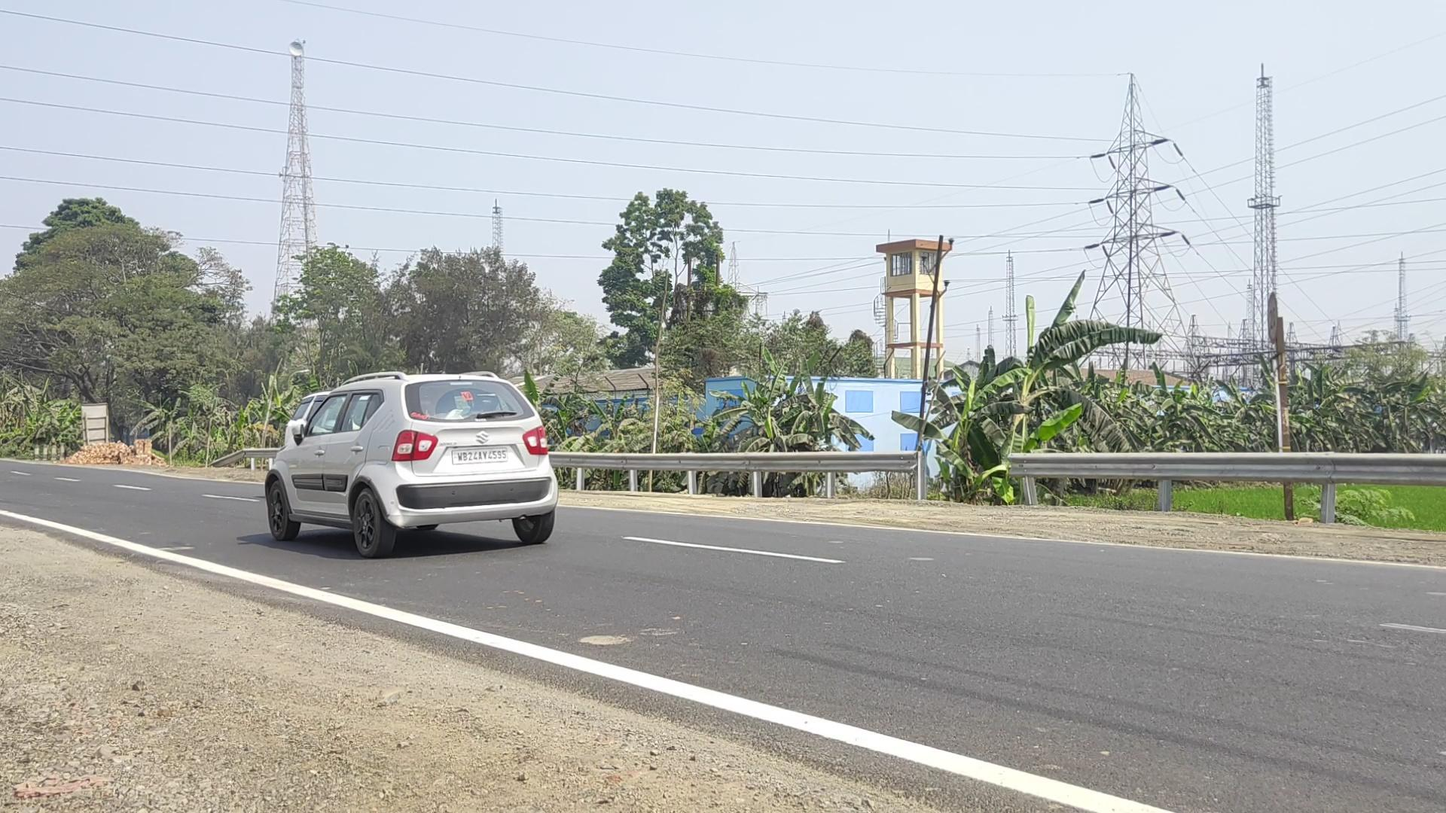car: (265, 370, 558, 559)
